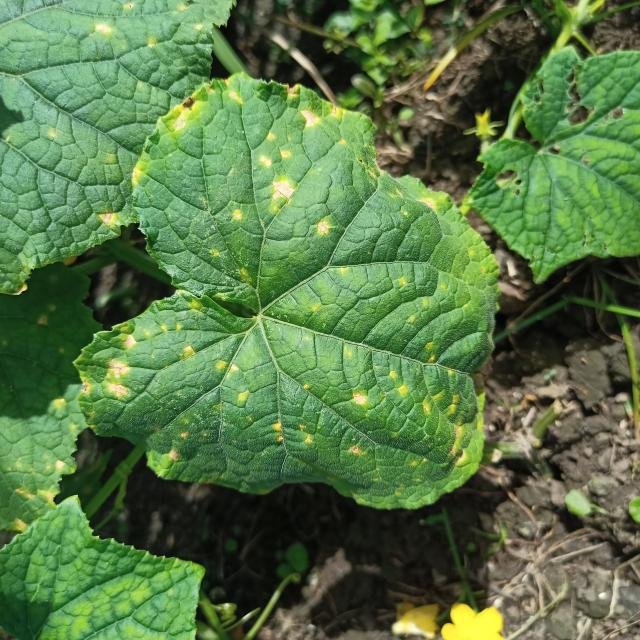disease_cucumber: (103, 74, 481, 490)
